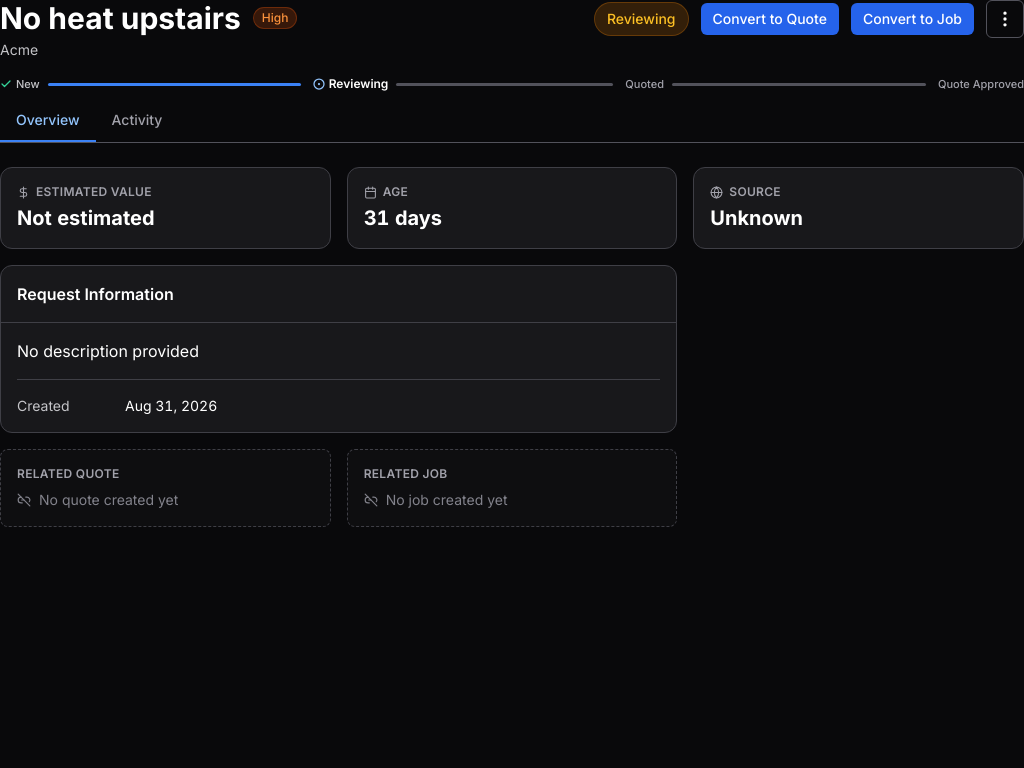
Test: RequestDetailPage — Cancel Request confirmation › opens a confirmation instead of cancelling on the first click
The image size is (1024, 768).
What coordinates should you click on to do the following:
click the button named "Request actions"
I would click on:
 (1005, 19)
Its box is [986, 0, 1023, 38].
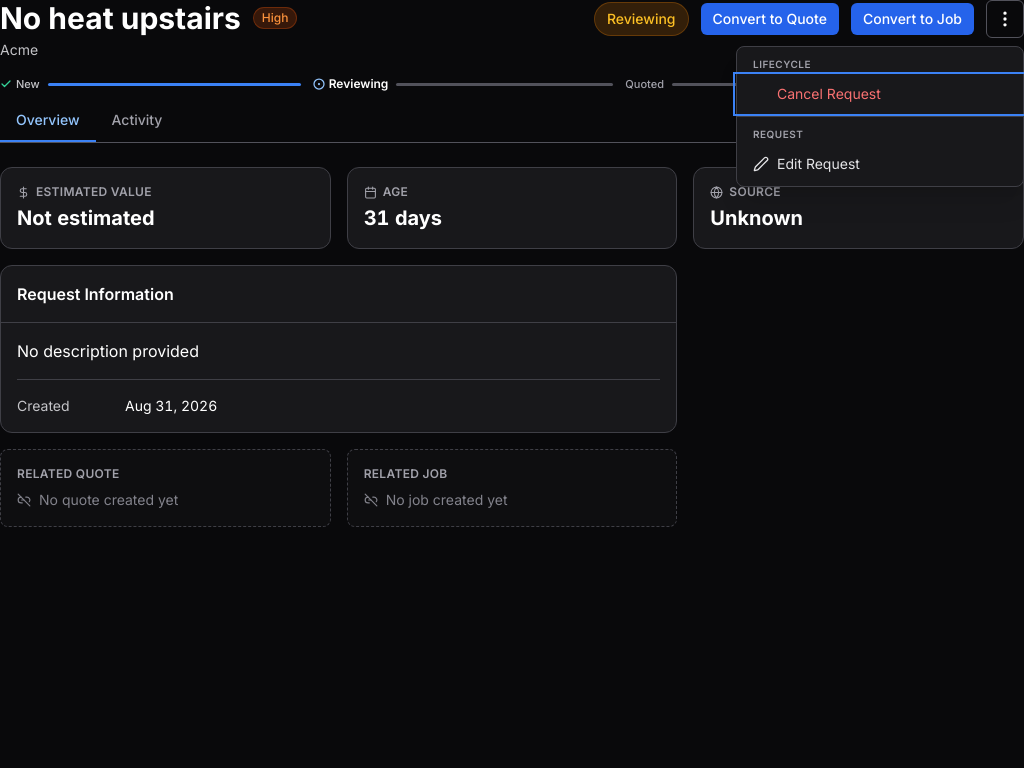
What coordinates should you click on to do the following:
click the menu item "Cancel Request"
I would click on:
 (880, 94)
Its box is [737, 76, 1023, 112].
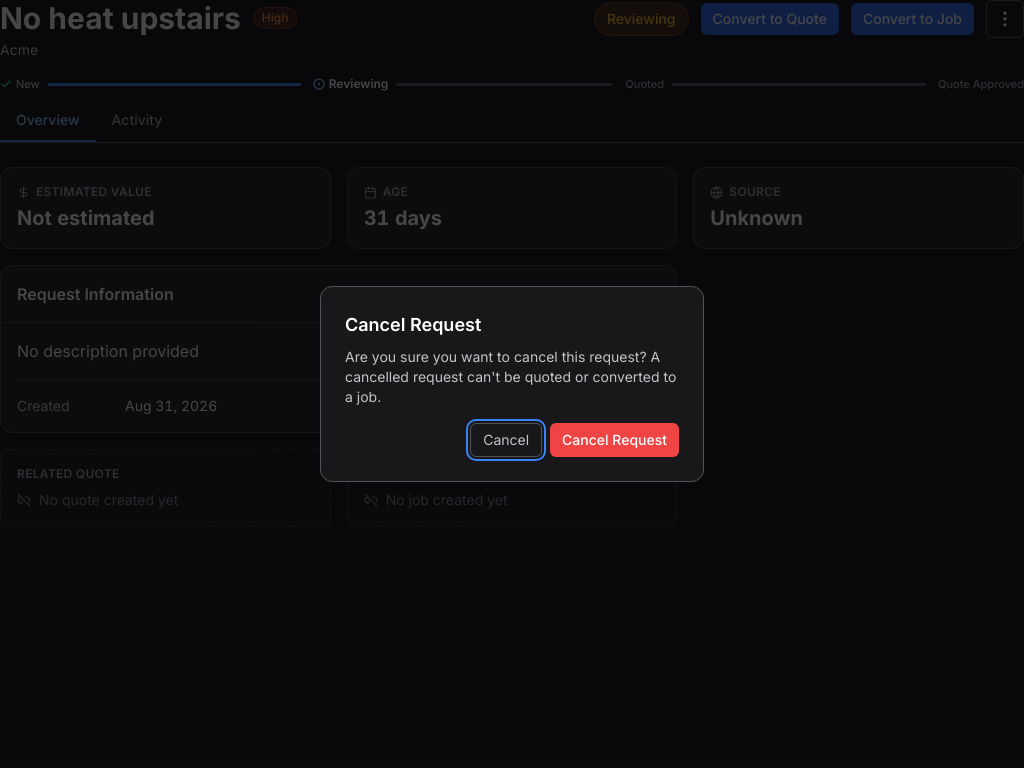
Now the dialog "Cancel Request" is shown, box [320, 286, 704, 482]
